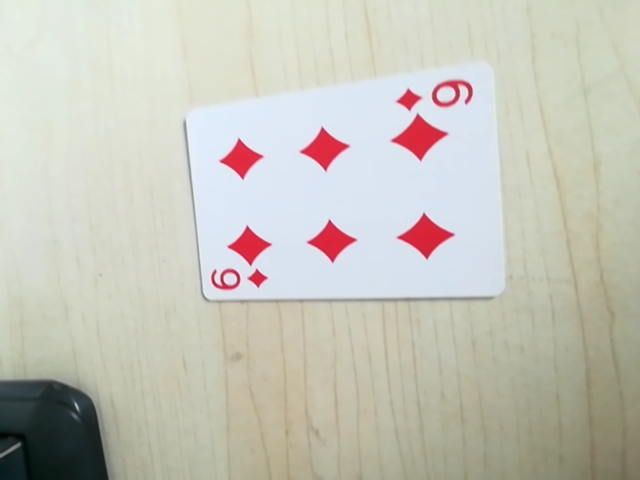fk 6: (395, 71, 478, 119), (207, 263, 271, 299)
